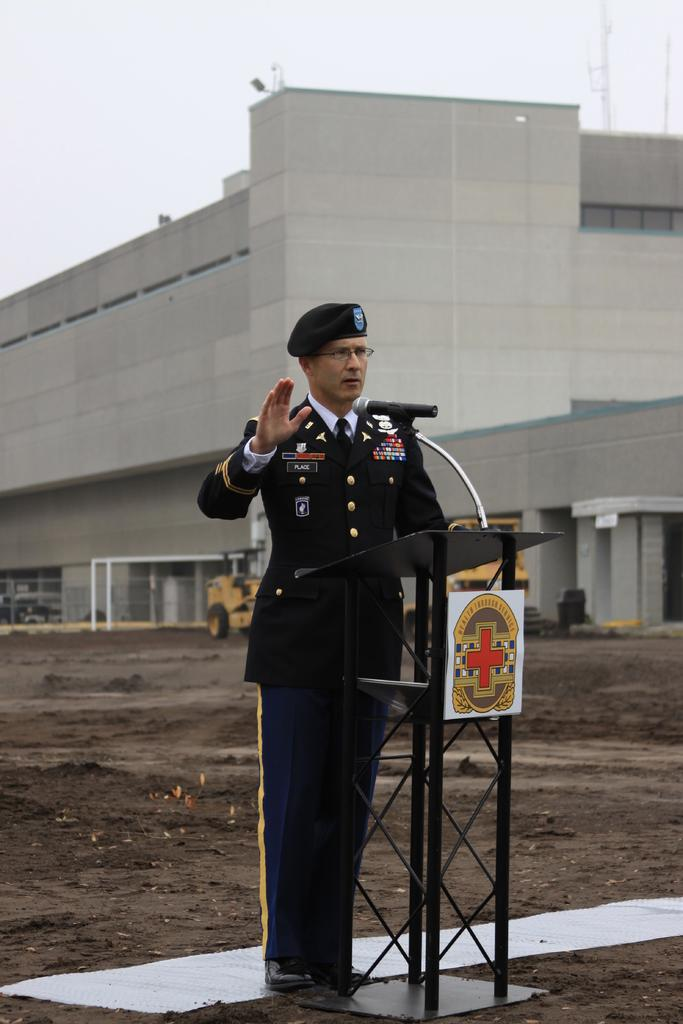no_helmet: (299, 294, 365, 334)
none: (285, 400, 395, 652)
